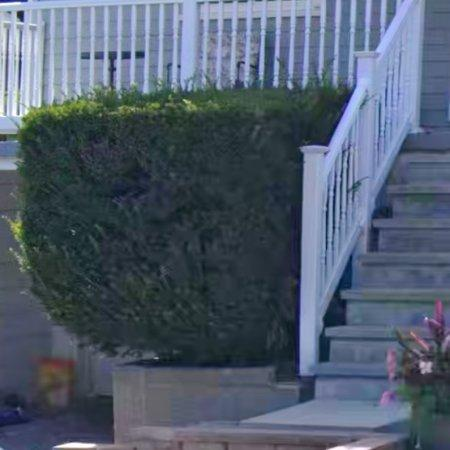stairs: (317, 130, 450, 400)
